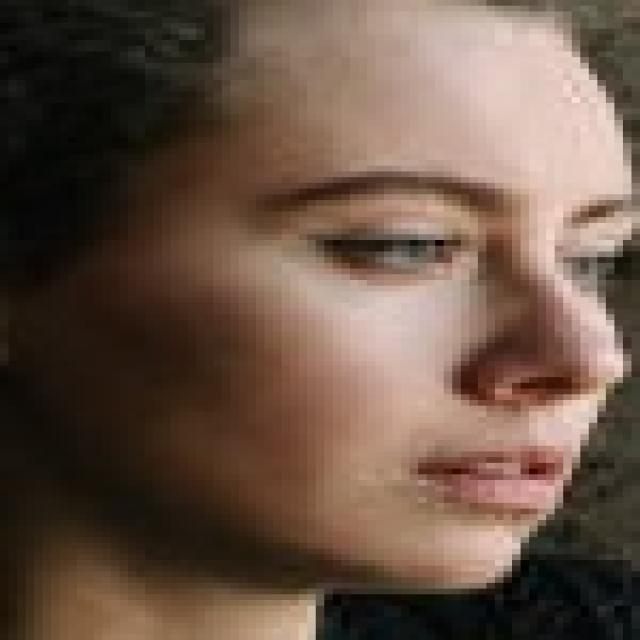Anxiety: (10, 2, 631, 602)
